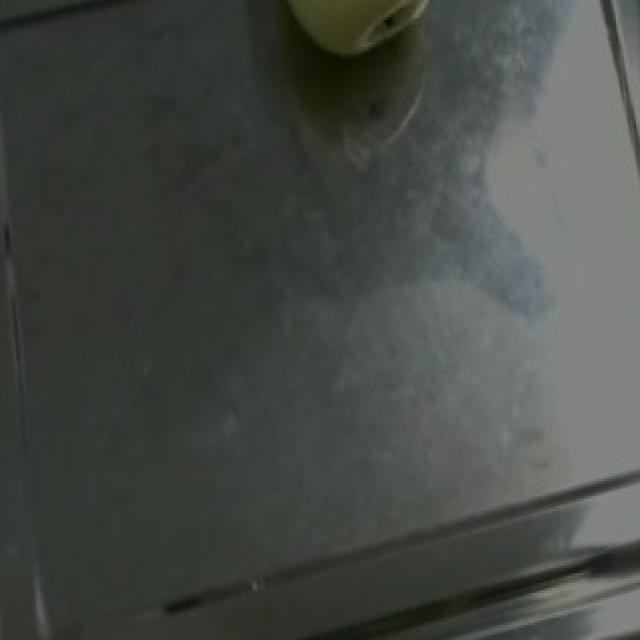Fruit: (246, 0, 464, 82)
